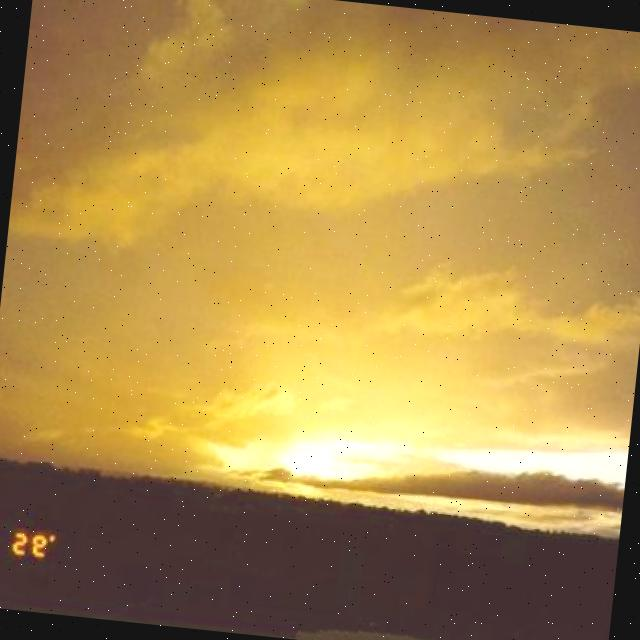Ns: (1, 1, 640, 500)
